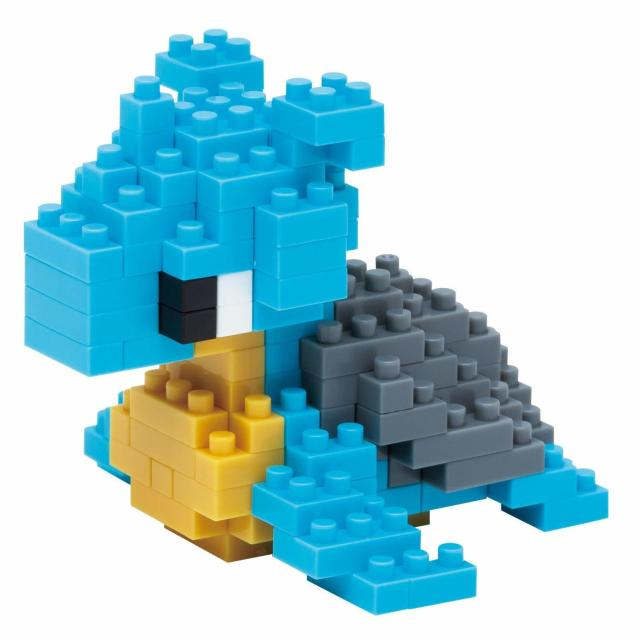Lapras: (29, 28, 560, 608)
